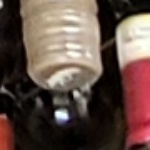bottle: (19, 23, 118, 108)
